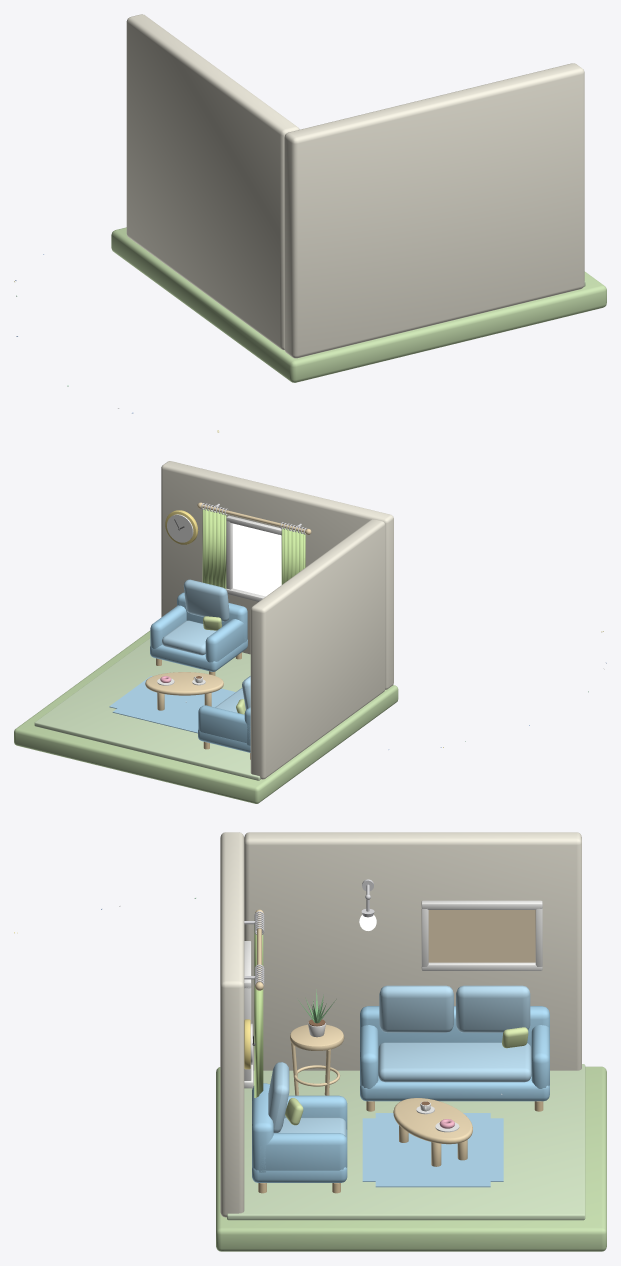
The model's file is room1.glb.
3 views of the same model, one above another, from view 1: azimuth 30°, elevation 25°; view 2: azimuth 150°, elevation 25°; view 3: azimuth 270°, elevation 25° (orthographic). The views are drawn at different scales.
Visible parts, largest first — view 1: Wall_Left, Wall_Right, FloorBase; view 2: Wall_Right, Wall_Left, FloorTop, FloorBase, Win_Pane, Rug, Curtain_R, Armchair_BackCushion0, Loveseat_Arm, CoffeeTable_Top, Armchair_Arm, Armchair_Base (+7 smaller); view 3: Wall_Right, FloorTop, FloorBase, Wall_Left, Rug, Loveseat_Seat, Frame_Canvas, Loveseat_Base, Loveseat_BackCushion1, Loveseat_BackCushion0, Armchair_Arm.001, CoffeeTable_Top (+12 smaller).
Part boxes in pixels (x1,y1,x2,y2): Wall_Left: [284, 63, 584, 358]; Wall_Right: [126, 14, 299, 350]; FloorBase: [111, 227, 606, 382]; Wall_Right: [250, 519, 385, 779]; Wall_Left: [161, 461, 393, 689]; FloorTop: [34, 638, 260, 780]; FloorBase: [14, 630, 398, 803]; Win_Pane: [232, 523, 281, 596]; Rug: [109, 676, 235, 733]; Curtain_R: [202, 508, 226, 589]; Armchair_BackCushion0: [183, 579, 229, 621]; Loveseat_Arm: [198, 705, 250, 743]; CoffeeTable_Top: [145, 672, 223, 695]; Armchair_Arm: [205, 619, 246, 662]; Armchair_Base: [150, 639, 247, 671]; Wall_Right: [244, 832, 581, 1070]; FloorTop: [227, 1064, 585, 1220]; FloorBase: [216, 1066, 606, 1251]; Wall_Left: [220, 832, 244, 1217]; Rug: [362, 1113, 503, 1187]; Loveseat_Seat: [378, 1042, 531, 1082]; Frame_Canvas: [428, 910, 535, 962]; Loveseat_Base: [360, 1076, 549, 1101]; Loveseat_BackCushion1: [379, 985, 453, 1032]; Loveseat_BackCushion0: [456, 985, 530, 1032]; Armchair_Arm.001: [260, 1133, 347, 1170]; CoffeeTable_Top: [393, 1098, 472, 1144].
Bounding box in the file's own units: 6.27 × 2.64 × 5.46.
